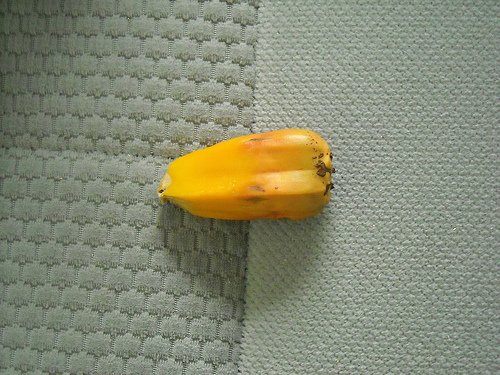corn: (157, 127, 338, 224)
